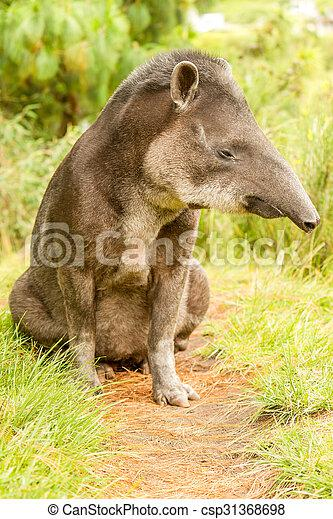Anta: (7, 45, 327, 412)
